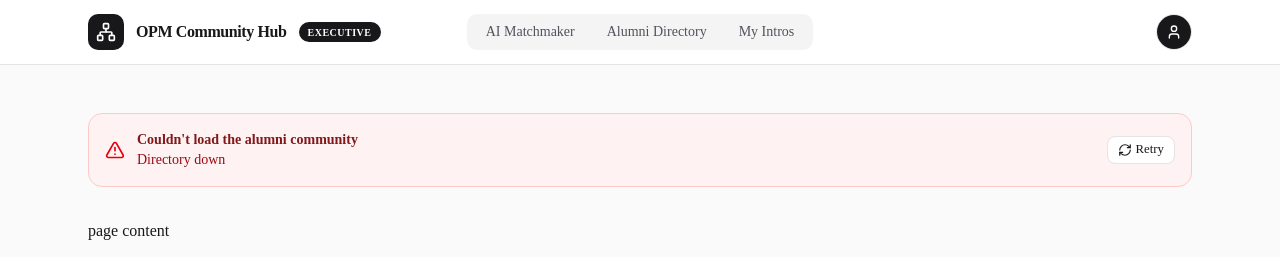
Scenario: AppLayout › shows a retryable error when the directory cannot be loaded
Expected: the message shows "Directory down", [137, 152, 225, 167]
Click the button "Retry" at (1141, 150), box [1107, 136, 1175, 164]
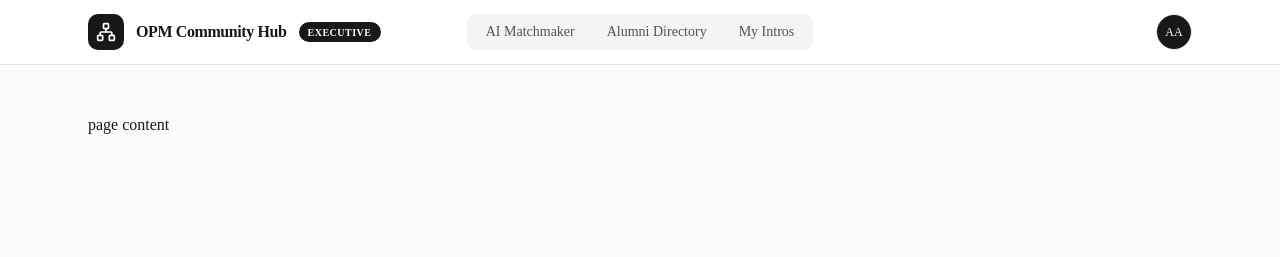
Expected: the message "Couldn't load the alumni community Directory down Retry" is gone
